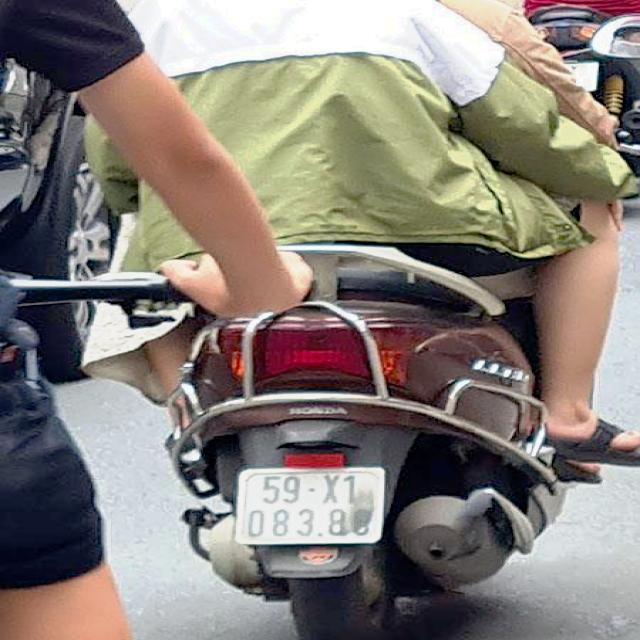license_plate: (237, 472, 385, 544)
